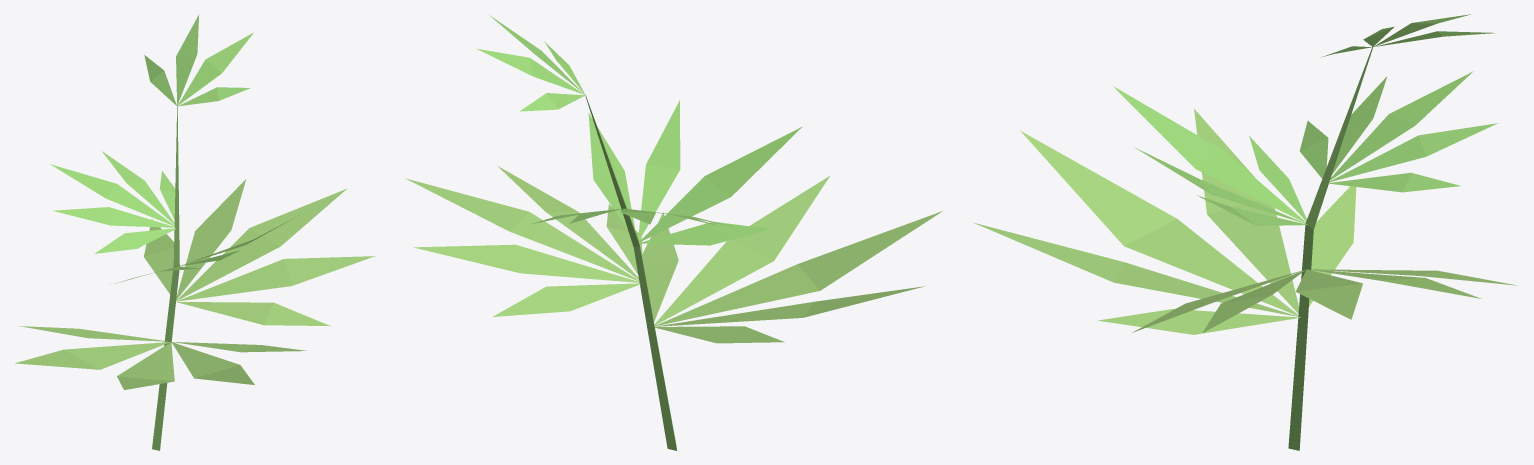
The model's file is Plant_i_OneS_03.fbx.
The picture shows the model from 3 angles, left to right: view 1: azimuth 30°, elevation 25°; view 2: azimuth 150°, elevation 25°; view 3: azimuth 270°, elevation 25°; orthographic projection. The views are drawn at different scales.
Parts seen in each view (by area): view 1: Plant_i_OneS_03; view 2: Plant_i_OneS_03; view 3: Plant_i_OneS_03.
Boxes of the visible parts, bbox=[...] form: Plant_i_OneS_03: bbox=[15, 14, 375, 450]; Plant_i_OneS_03: bbox=[405, 14, 942, 450]; Plant_i_OneS_03: bbox=[973, 14, 1517, 450].
Bounding box in the file's own units: 0.4251 × 0.3782 × 0.3708.
